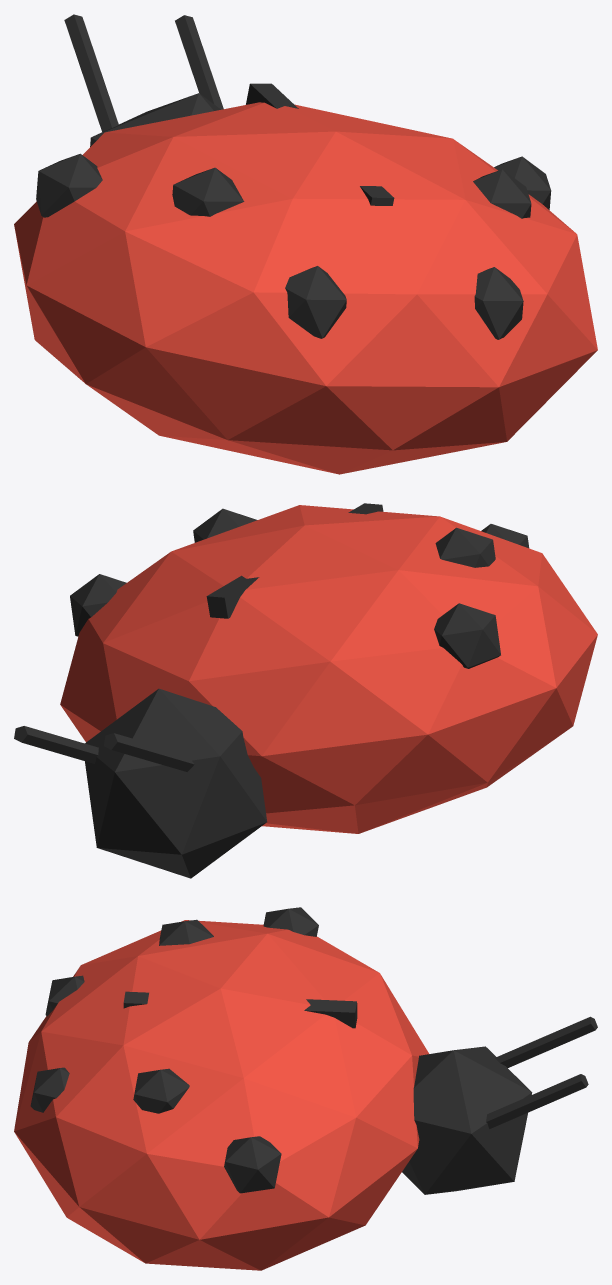
The model's file is ladybug.glb.
3 views of the same model, one above another, from view 1: azimuth 30°, elevation 25°; view 2: azimuth 150°, elevation 25°; view 3: azimuth 270°, elevation 25° (orthographic). The views are drawn at different scales.
Parts seen in each view (by area): view 1: Ladybug.001; view 2: Ladybug.001; view 3: Ladybug.001.
Part boxes in pixels (x1,y1,x2,y2): Ladybug.001: (14, 14, 597, 474); Ladybug.001: (14, 503, 597, 878); Ladybug.001: (14, 907, 597, 1270).
Size of the model in its own units: 0.313 by 0.1815 by 0.3815.
